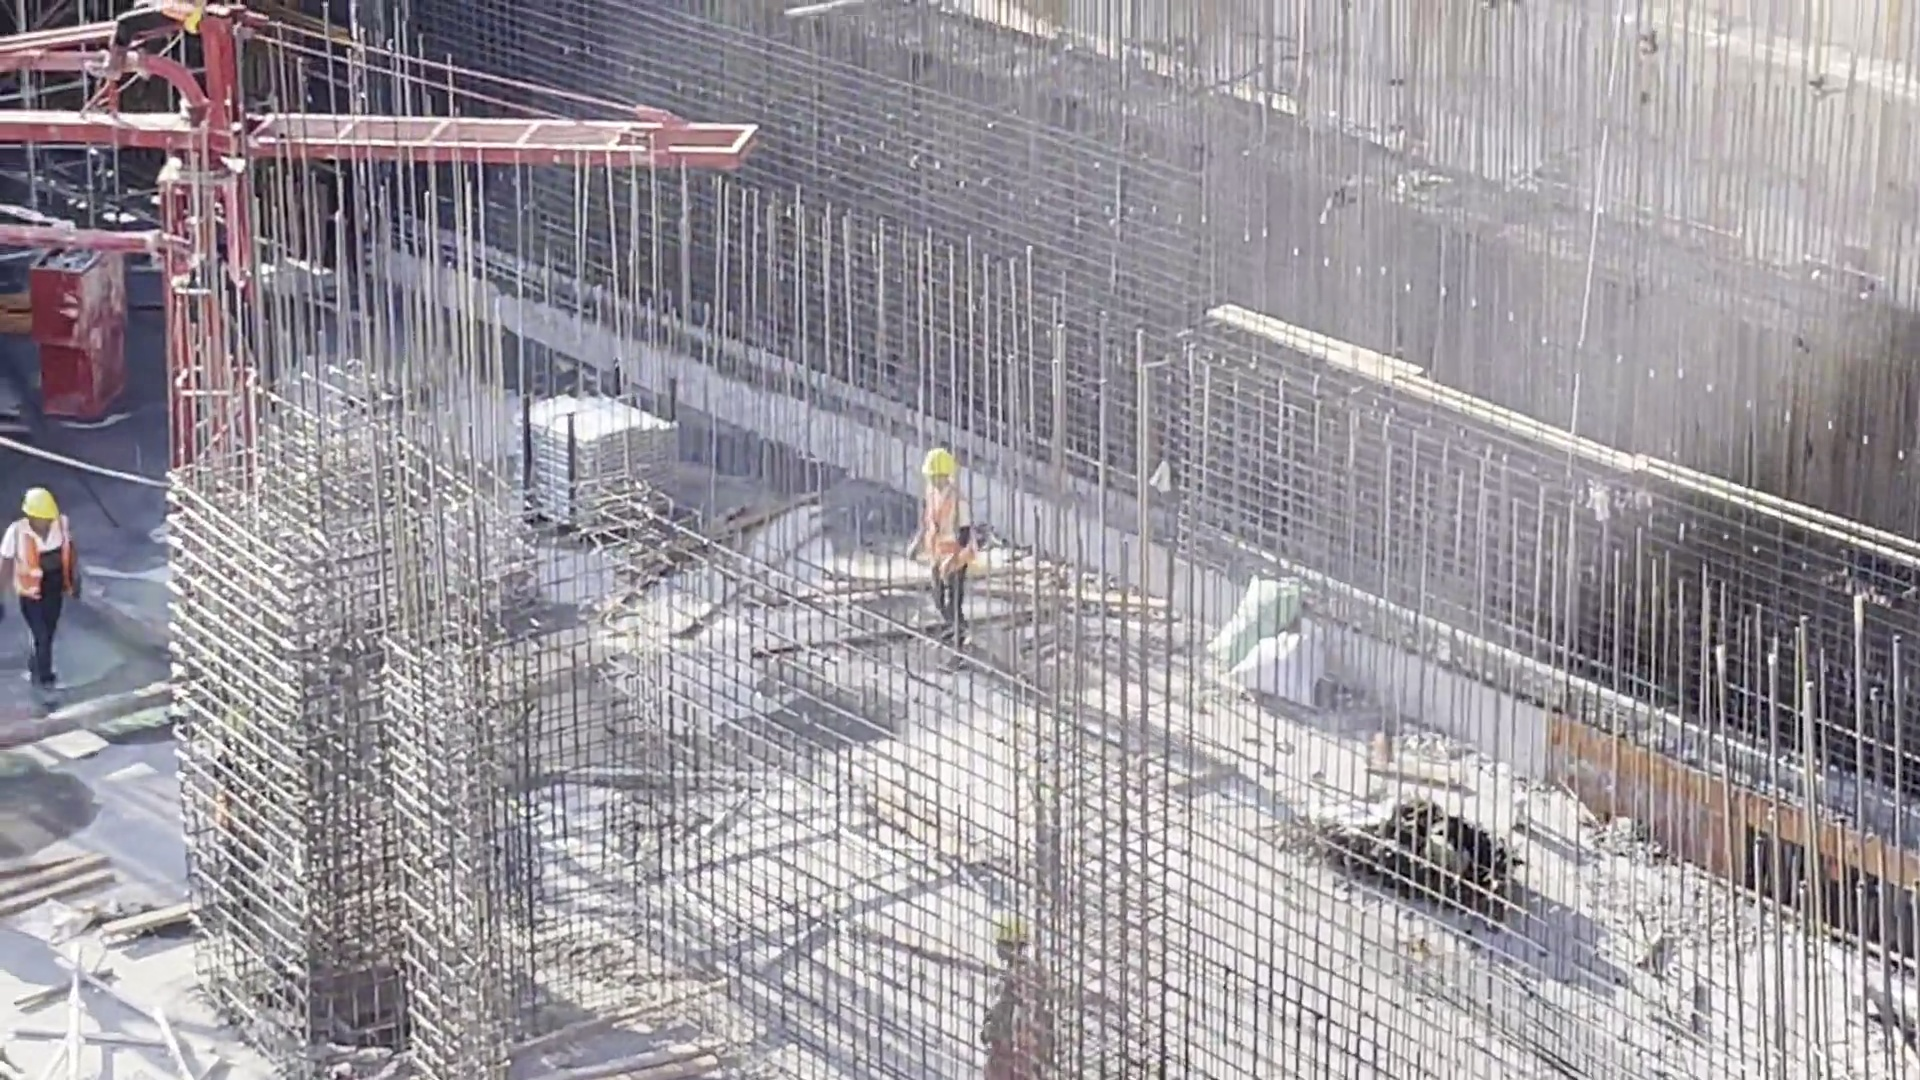helmet: (21, 482, 70, 534), (914, 449, 960, 489), (999, 912, 1032, 961)
person: (1, 476, 92, 710), (896, 432, 982, 632), (969, 912, 1065, 1080)
scaffold: (524, 393, 682, 533)
vest: (985, 973, 1057, 1067), (898, 482, 976, 568), (1, 519, 81, 597)
